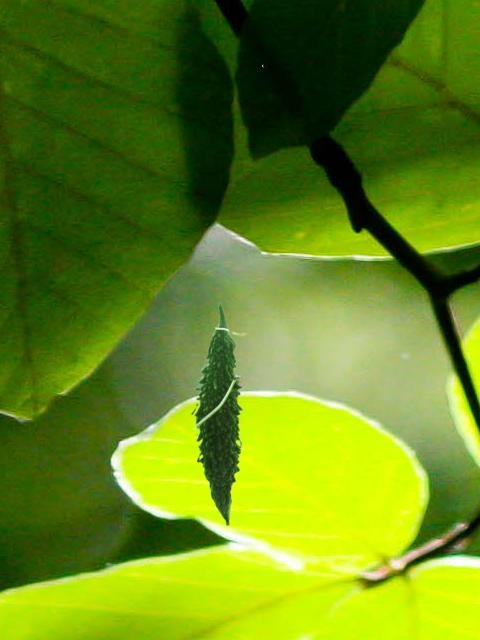ampalaya: (190, 301, 250, 526)
